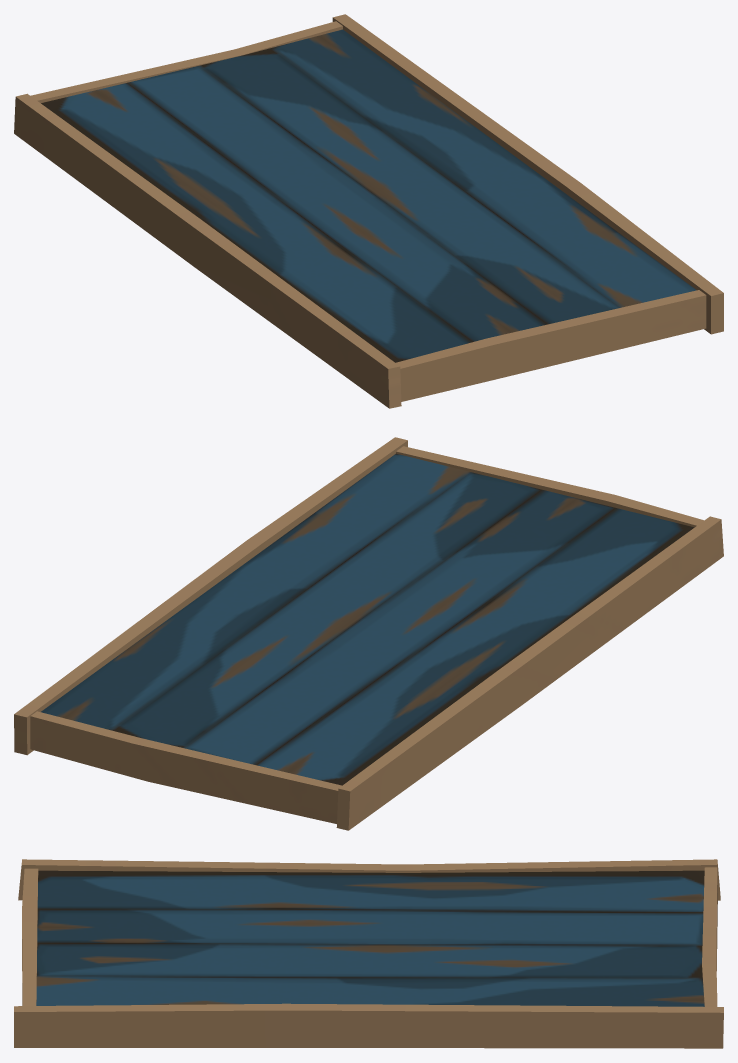
Rendered from SM_Bld_Dock_06.fbx.
The picture shows the model from 3 angles, top to bottom: view 1: azimuth 30°, elevation 25°; view 2: azimuth 150°, elevation 25°; view 3: azimuth 270°, elevation 25°; orthographic projection. The views are drawn at different scales.
Visible parts, largest first — view 1: SM_Bld_Dock_06; view 2: SM_Bld_Dock_06; view 3: SM_Bld_Dock_06.
Part boxes in pixels (x1=…): SM_Bld_Dock_06: x1=14, y1=14, x2=723, y2=408; SM_Bld_Dock_06: x1=14, y1=437, x2=723, y2=830; SM_Bld_Dock_06: x1=14, y1=859, x2=723, y2=1048.
Size of the model in its own units: 241 by 30.5 by 474.
